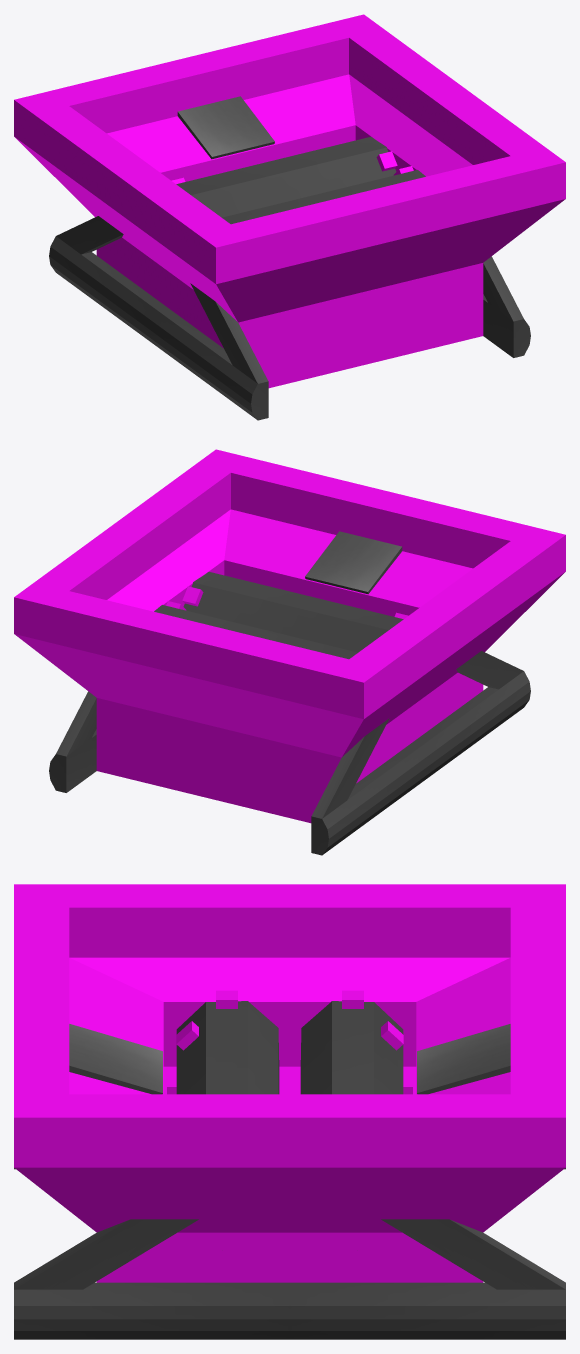
File: conveyor_processor_crusher.obj
The picture shows the model from 3 angles, top to bottom: view 1: azimuth 30°, elevation 25°; view 2: azimuth 150°, elevation 25°; view 3: azimuth 270°, elevation 25°; orthographic projection. The views are drawn at different scales.
Parts seen in each view (by area): view 1: ProcessorChute_chutemdl, Support_Alu_smdl_alu, Processor_Walzes, ProcessorMarker_Crusher_pmmdl_cru; view 2: ProcessorChute_chutemdl, Support_Alu_smdl_alu, Processor_Walzes, ProcessorMarker_Crusher_pmmdl_cru; view 3: ProcessorChute_chutemdl, Support_Alu_smdl_alu, Processor_Walzes, ProcessorMarker_Crusher_pmmdl_cru, BumpsCrusher.
Boxes of the visible parts, x1,y1,x2,y2 form: ProcessorChute_chutemdl: (14, 14, 565, 388); Support_Alu_smdl_alu: (49, 216, 530, 420); Processor_Walzes: (176, 137, 425, 224); ProcessorMarker_Crusher_pmmdl_cru: (177, 96, 274, 159); ProcessorChute_chutemdl: (14, 449, 565, 823); Support_Alu_smdl_alu: (49, 651, 530, 855); Processor_Walzes: (154, 572, 403, 659); ProcessorMarker_Crusher_pmmdl_cru: (305, 531, 402, 594); ProcessorChute_chutemdl: (14, 884, 565, 1282); Support_Alu_smdl_alu: (14, 1168, 565, 1339); Processor_Walzes: (176, 1001, 403, 1094); ProcessorMarker_Crusher_pmmdl_cru: (69, 1024, 510, 1094); BumpsCrusher: (167, 990, 412, 1094).
Size of the model in its own units: 1 by 0.5 by 1.
